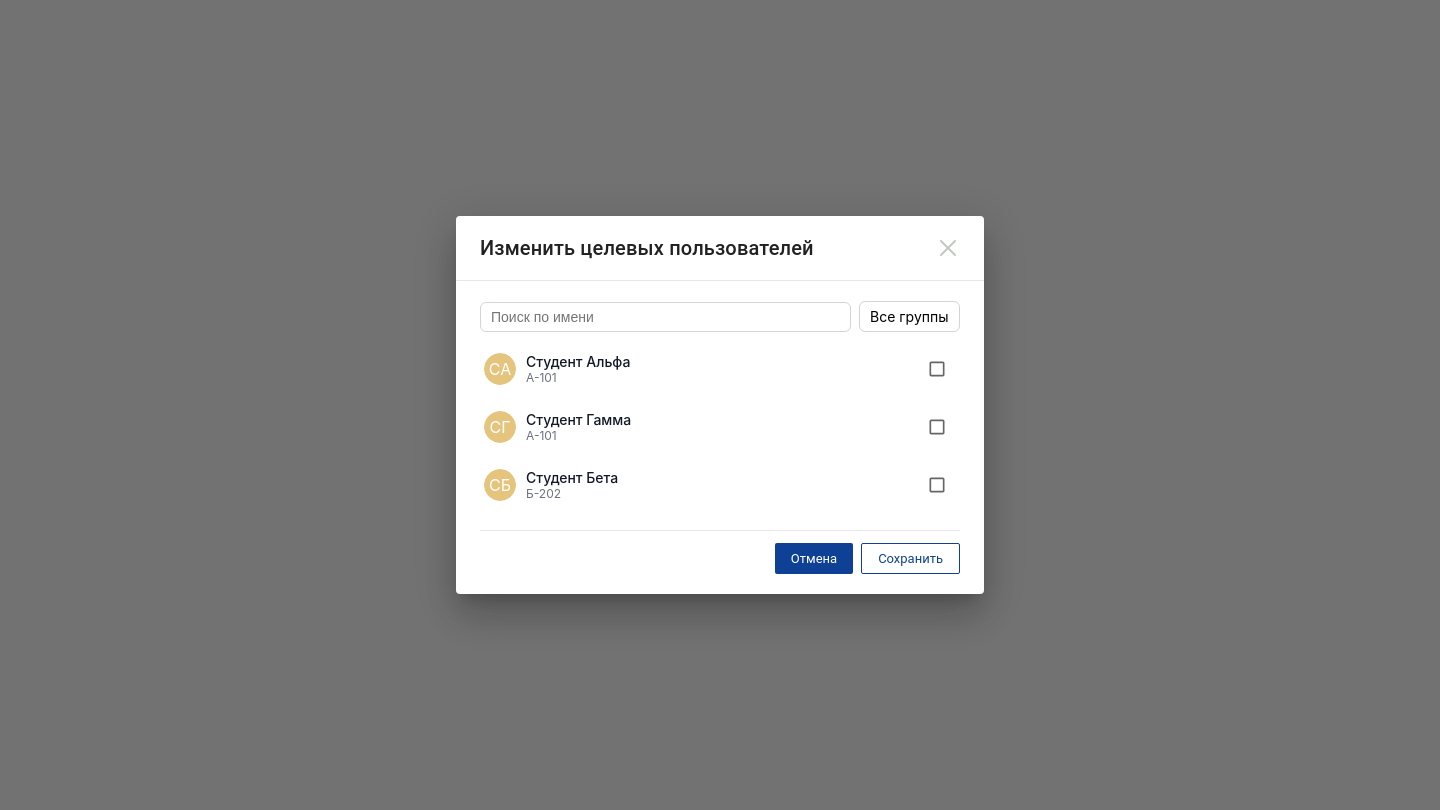
EditTargetUsersModal › search filters visible users by legalName
Step 1. Type "Альфа" into the field with placeholder "Поиск по имени" → (666, 316), box [480,302,851,332]
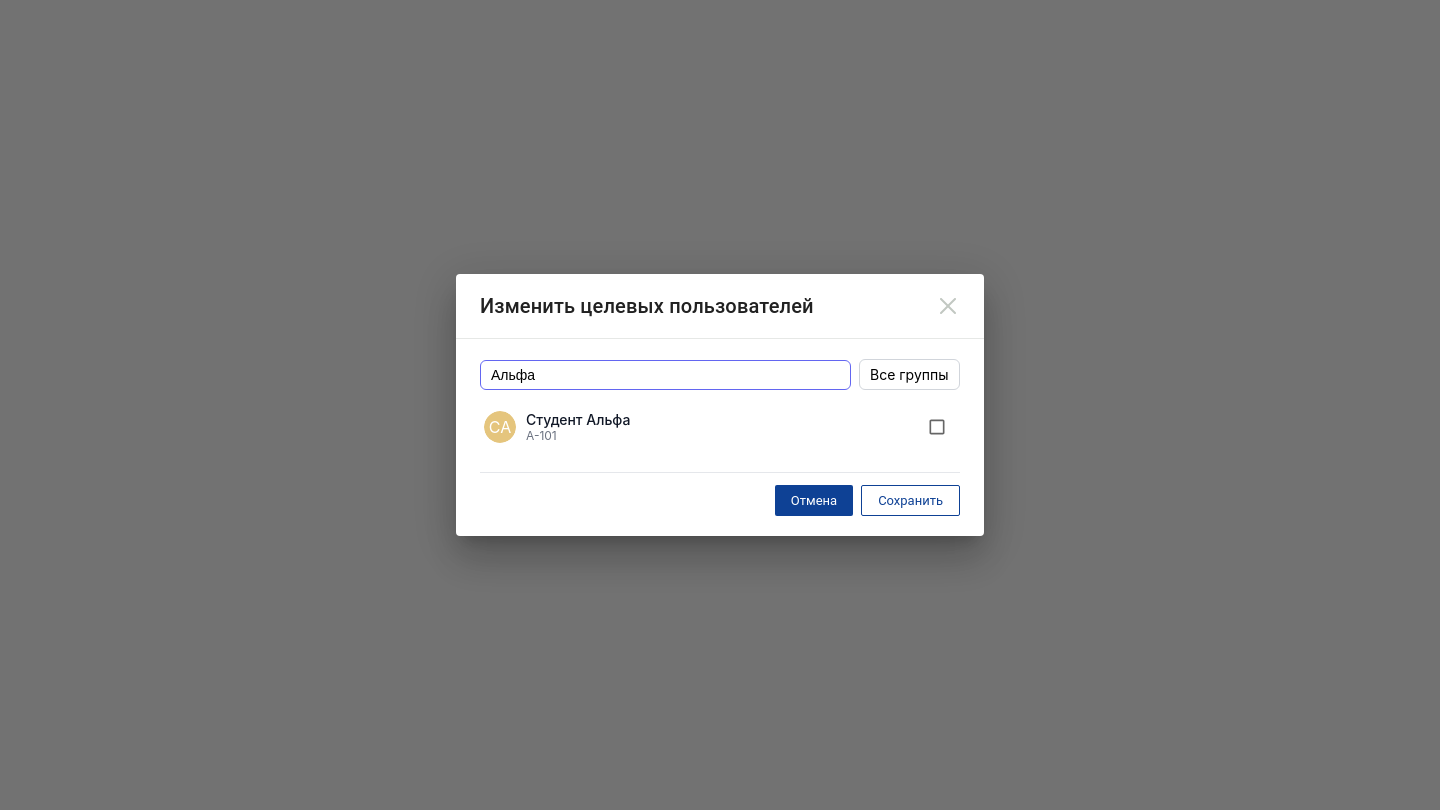
Check: the text "Студент Альфа" is shown, box [526,411,630,428]
Check: the text "Студент Бета" is gone
